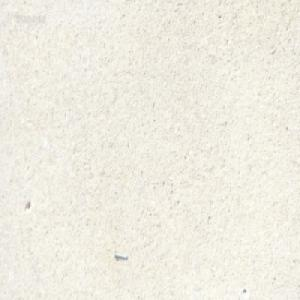Nail: (112, 250, 127, 259)
